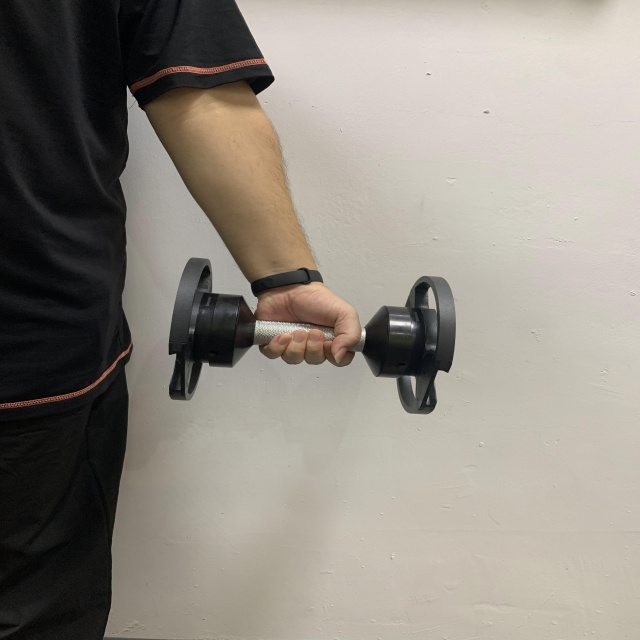01-2kg: (166, 259, 456, 415)
